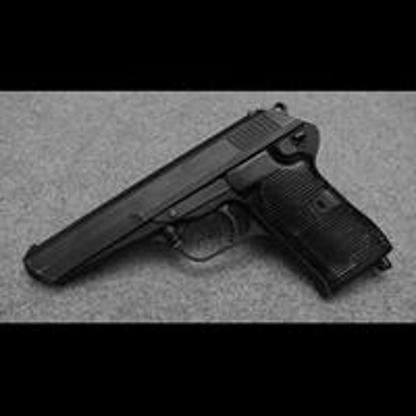weapon: (12, 96, 393, 311)
